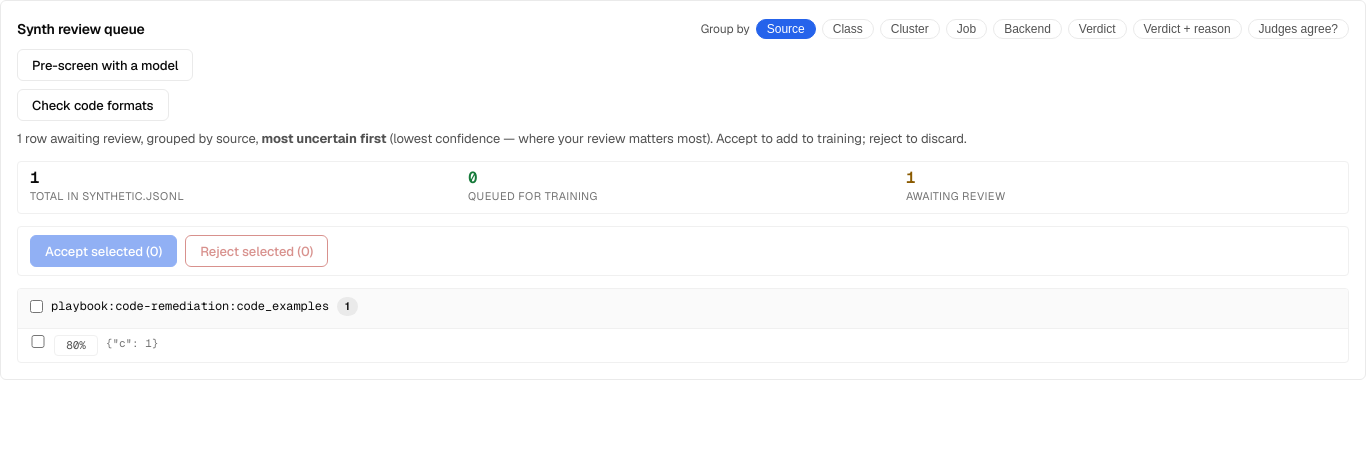
Scenario: SynthReviewQueue code format re-check › cancel leaves everything alone and a clean queue offers no reject
Step 1. Click the button with test id "synth-review-queue-format-check" → {"x": 93, "y": 105}, box [17,89,168,121]
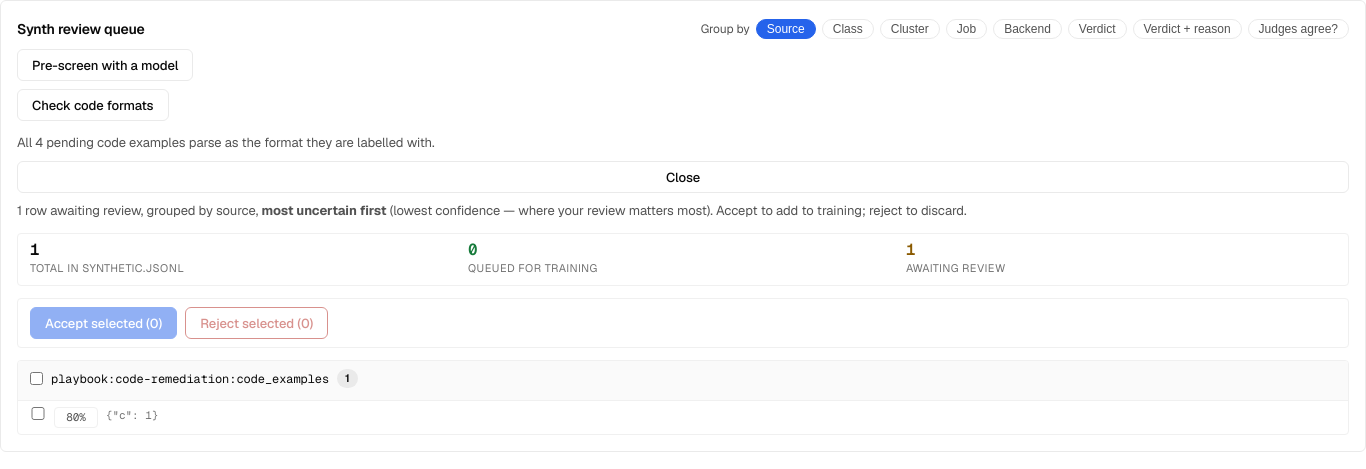
Result: the element with test id "synth-review-queue-format-confirm" shows "All 4 pending code examples parse" at [17,129,1349,193]
Step 2. Click the button with test id "synth-review-queue-format-cancel" → {"x": 683, "y": 177}, box [17,161,1349,193]
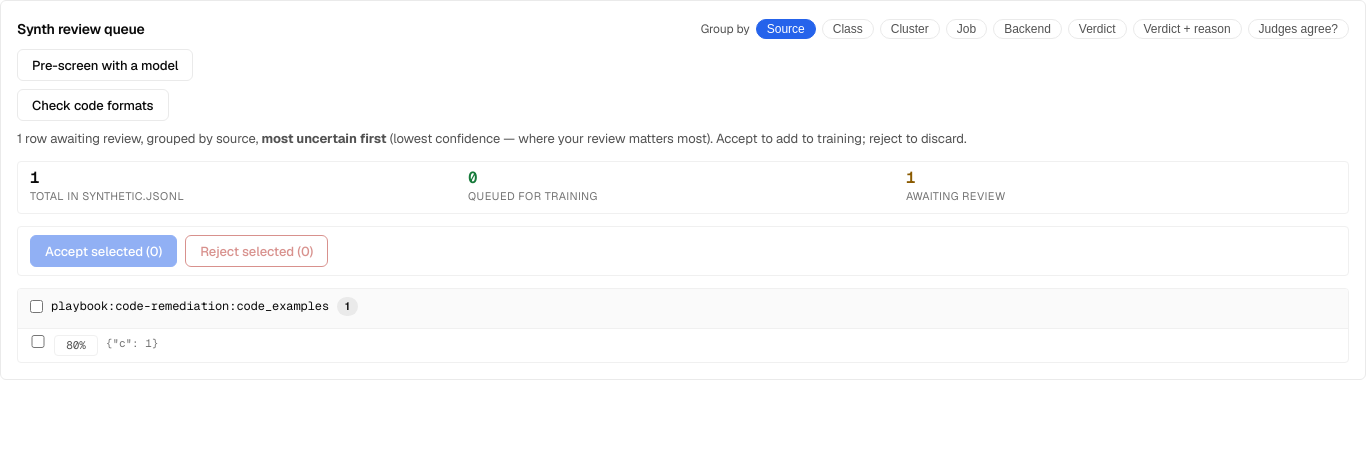
Result: the element with test id "synth-review-queue-format-confirm" is gone
